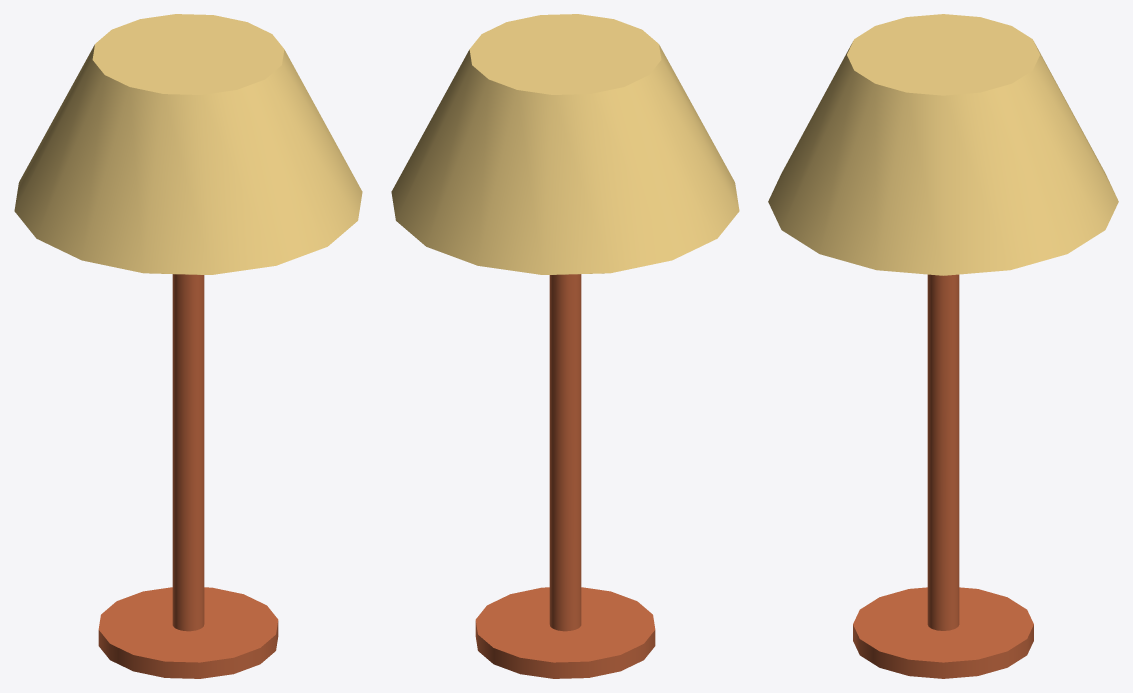
Rendered from Props_Lamp.fbx.
3 renders of one model, left to right at view 1: azimuth 30°, elevation 25°; view 2: azimuth 150°, elevation 25°; view 3: azimuth 270°, elevation 25°, orthographic.
Visible parts, largest first — view 1: Props_Lamp; view 2: Props_Lamp; view 3: Props_Lamp.
Boxes of the visible parts, <box> form: Props_Lamp: <box>14,14,362,678</box>; Props_Lamp: <box>391,14,739,678</box>; Props_Lamp: <box>768,14,1118,678</box>.
Size of the model in its own units: 109 by 201 by 109.
